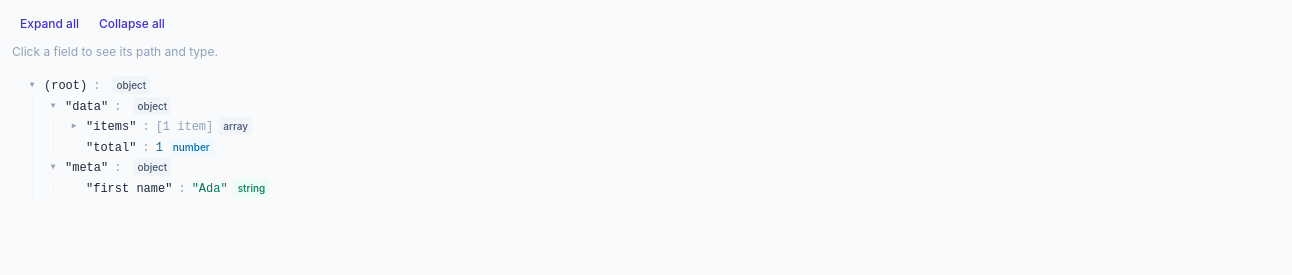
Test: JsonTreeView › AN-04: Expand all opens every level; Collapse all keeps only the root open
The width and height of the screenshot is (1292, 275).
Later steps or results of the test are not shown.
Click the button "Expand all" at [50, 24], box 12,12 -> 87,36
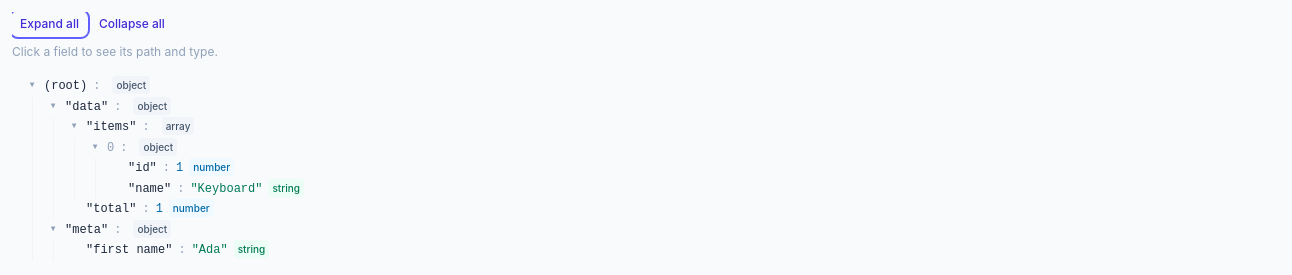
Result: the list item "name" is shown at 104,178 -> 1284,199
